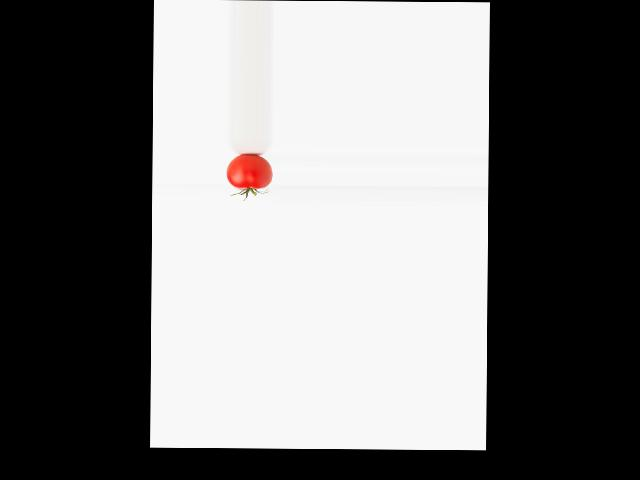tomato: (226, 154, 272, 189)
